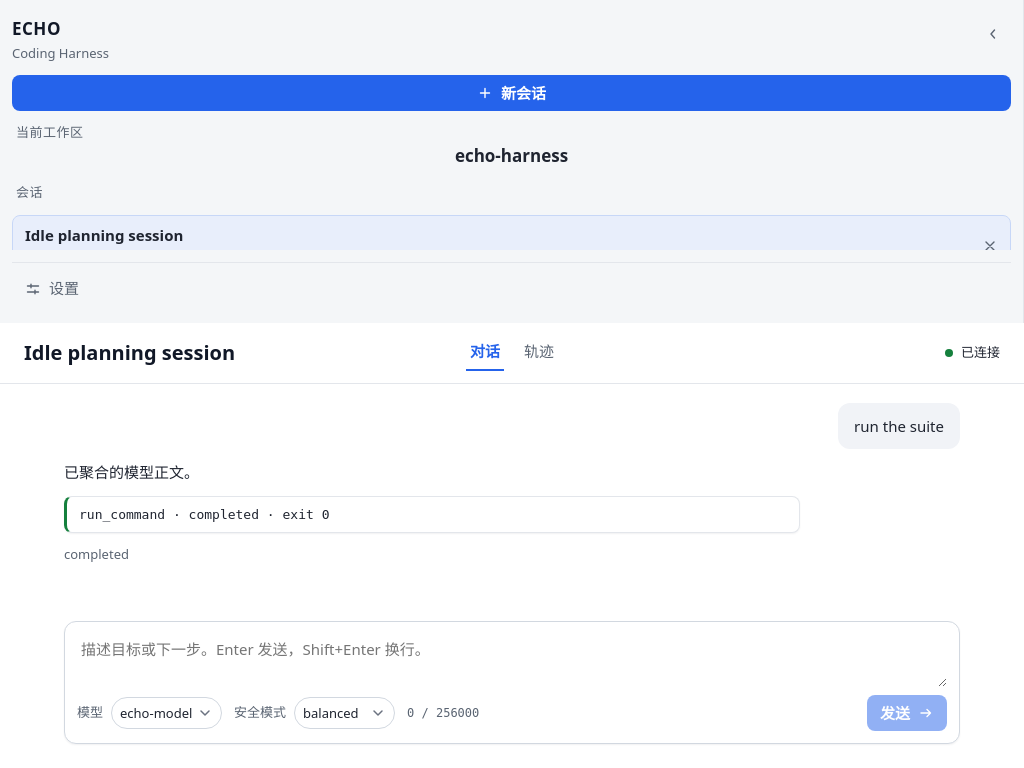
Test: Chat streaming projection › separates the user bubble, tool card status, and one composer card
The image size is (1024, 768).
(page scrolled)
Expected: the text "completed" is shown, [64, 545, 129, 563]
Type "x" into the text box named "输入" at point(512, 660), box [77, 634, 947, 687]
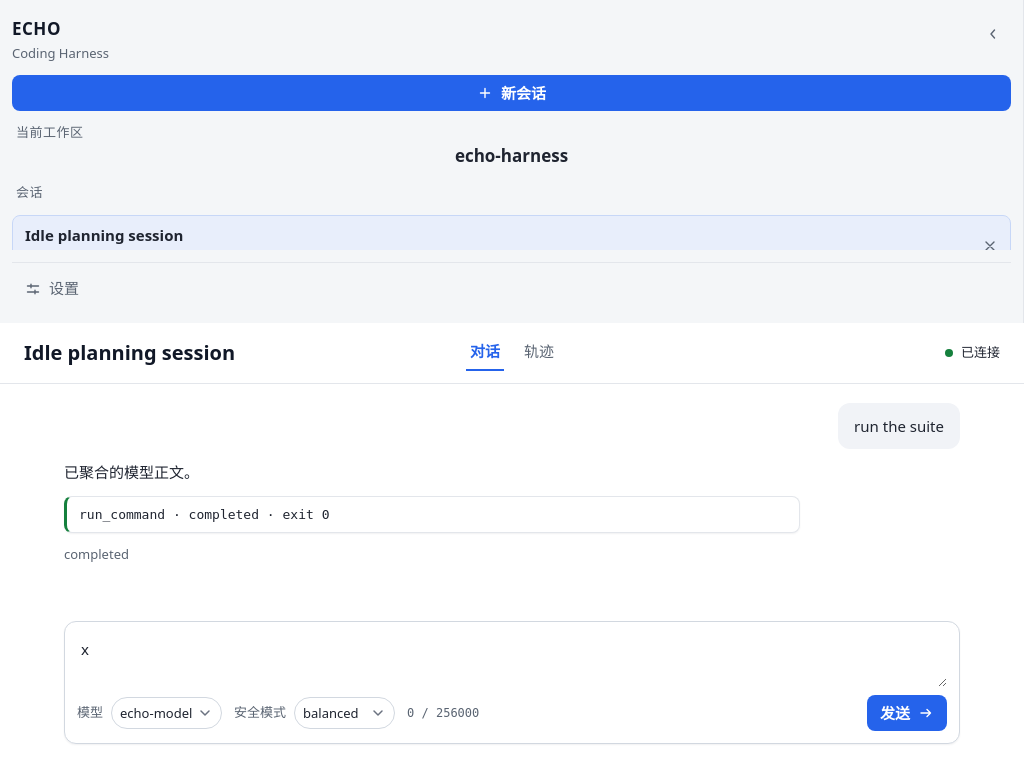
Now the button "发送" is enabled, box [867, 695, 947, 731]
